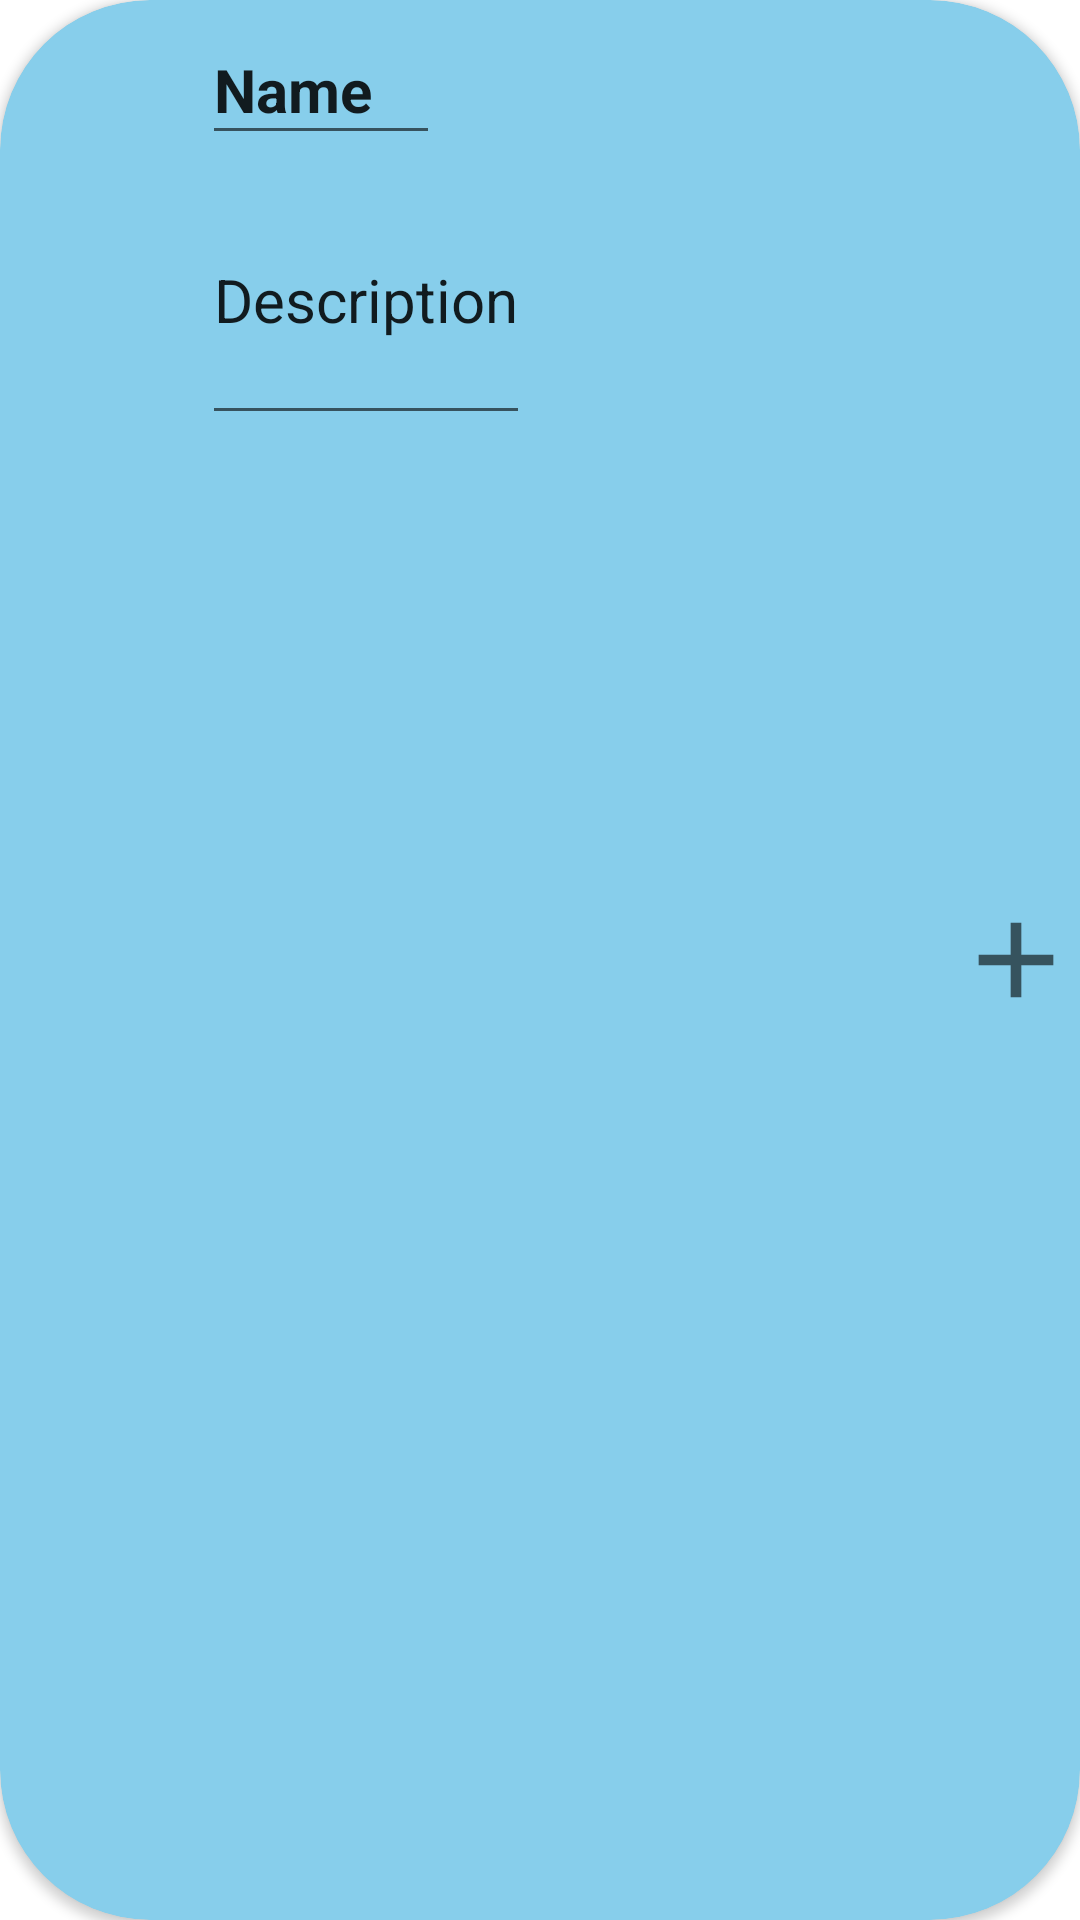

Point at icon controls on the screen. Image size 1080px×1920px, points as (x,y).
add: (1016,960)
